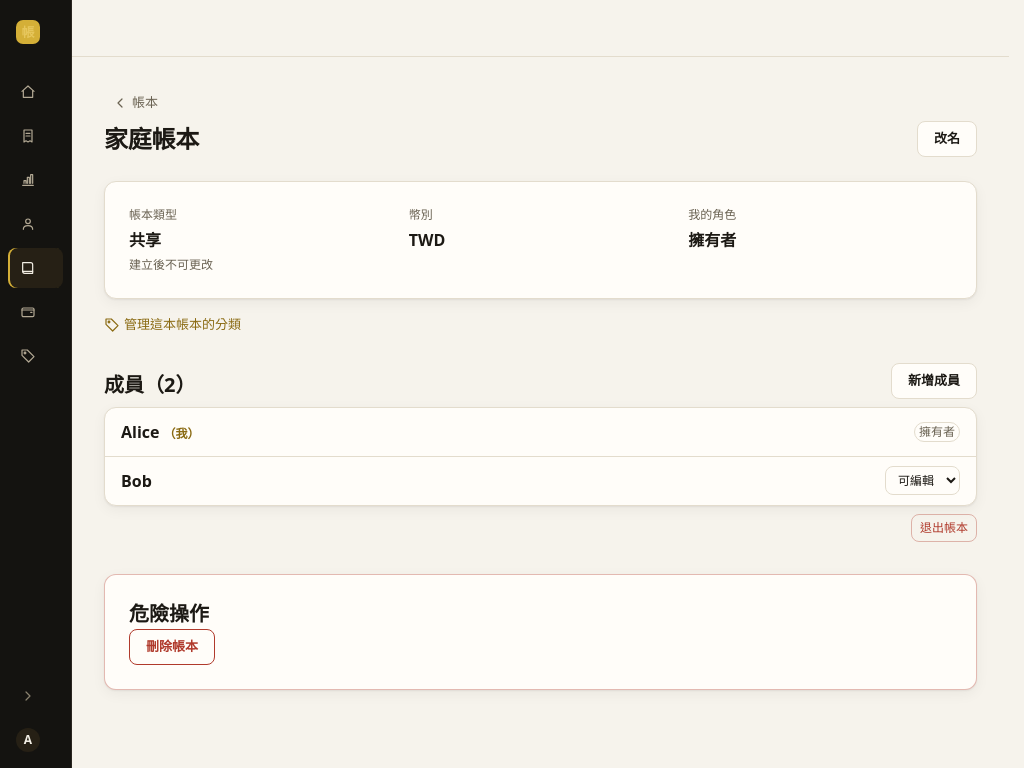
Test case: Ledger members › offers to change a member with transactions to viewer after the 409 response
Select "移除" in the dropdown named "Bob的角色" at (922, 480), box [885,466,960,495]
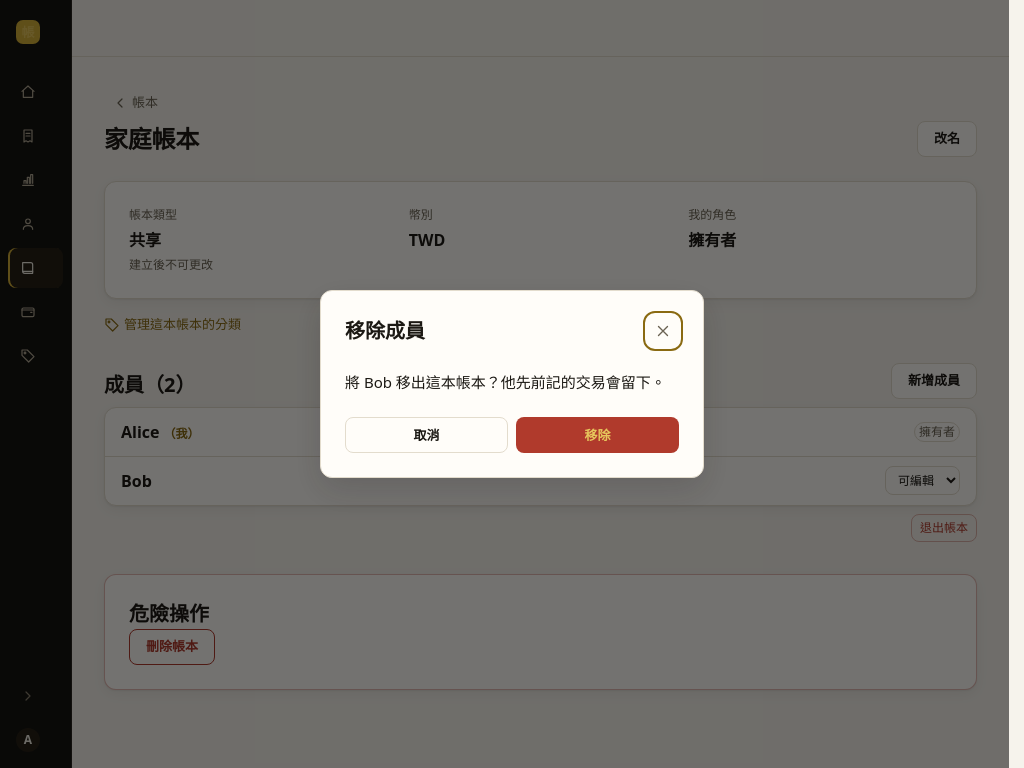
Click the button "移除" at (598, 435), box [516,417,679,453]
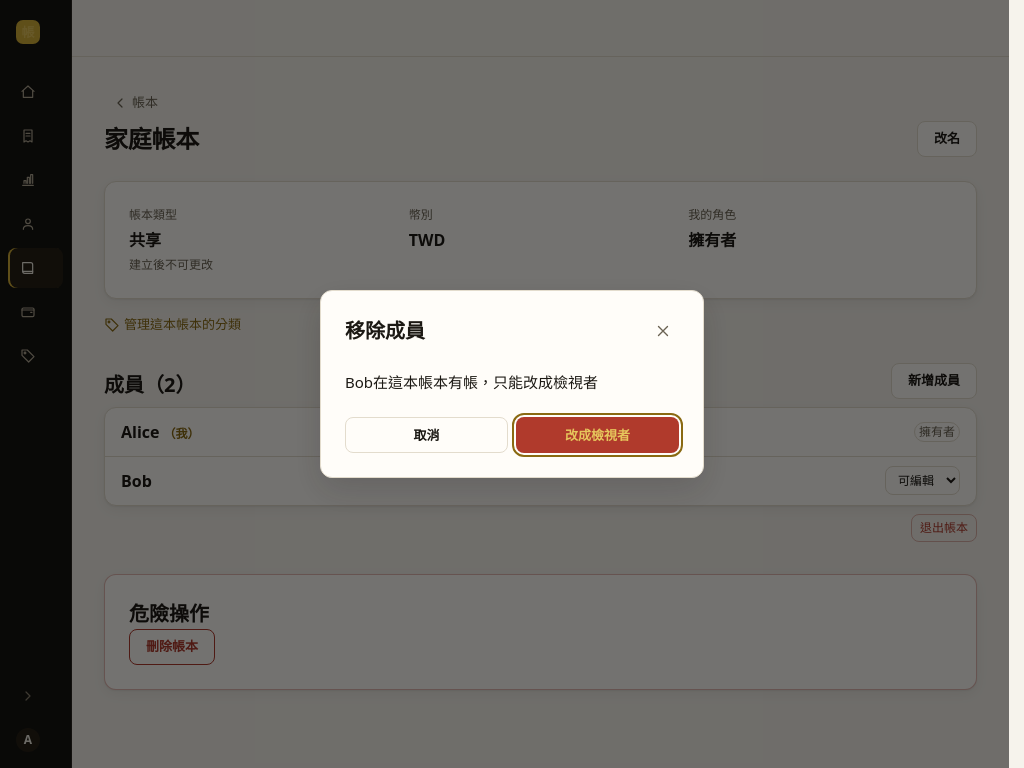
expect the text "Bob在這本帳本有帳，只能改成檢視者" is shown: met, box [345,372,598,392]
Click the button "改成檢視者" at (598, 435), box [516,417,679,453]
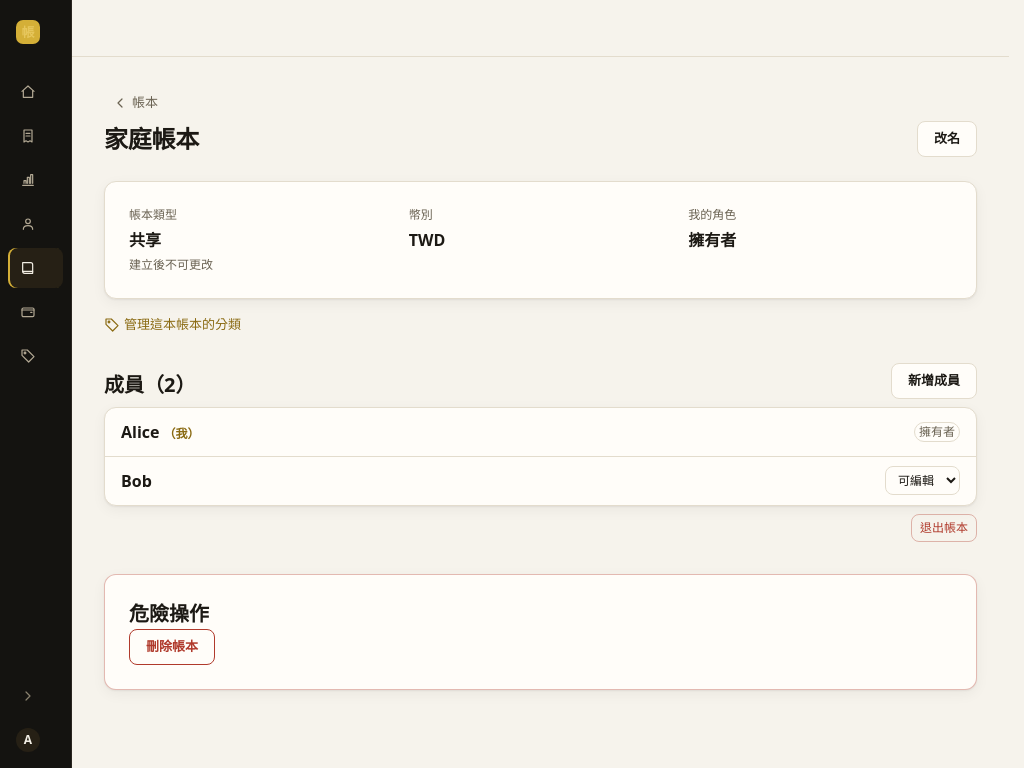
expect the heading "移除成員" is gone: met
